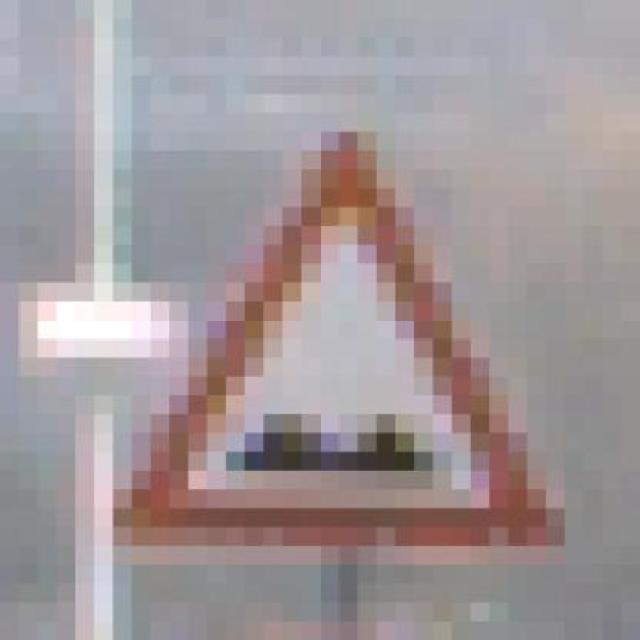Uneven Road: (93, 112, 564, 565)
